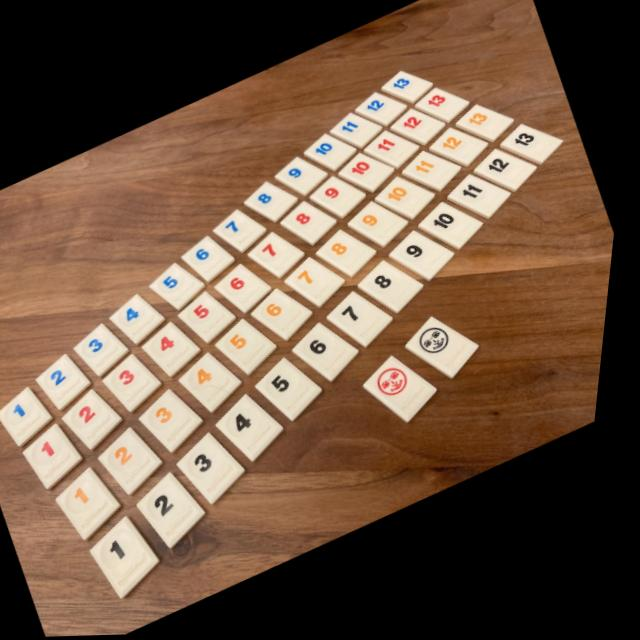black_1: (102, 517, 172, 599)
black_10: (424, 205, 489, 253)
black_11: (454, 177, 515, 222)
black_12: (478, 152, 541, 195)
black_13: (505, 127, 566, 168)
black_2: (149, 473, 217, 550)
black_3: (188, 434, 256, 506)
black_4: (226, 396, 293, 464)
black_5: (265, 359, 330, 423)
black_6: (301, 324, 366, 384)
black_7: (334, 294, 400, 349)
black_8: (366, 263, 430, 316)
black_9: (396, 233, 460, 283)
blue_1: (7, 388, 63, 447)
blue_10: (308, 136, 361, 174)
blue_11: (333, 115, 386, 151)
blue_12: (358, 94, 410, 129)
blue_13: (385, 73, 436, 106)
blue_2: (45, 354, 99, 411)
blue_3: (82, 325, 137, 377)
blue_4: (118, 295, 172, 345)
blue_5: (157, 264, 211, 312)
blue_6: (188, 237, 241, 284)
blue_7: (219, 211, 272, 254)
blue_8: (249, 183, 303, 224)
blue_9: (279, 159, 332, 198)
joker: (372, 358, 446, 425), (415, 319, 487, 381)
orange_1: (67, 468, 132, 541)
orange_10: (380, 180, 440, 222)
orange_11: (407, 154, 465, 194)
orange_12: (433, 131, 492, 170)
orange_13: (460, 107, 517, 145)
orange_2: (110, 428, 173, 496)
orange_3: (149, 390, 213, 454)
orange_4: (188, 354, 250, 414)
orange_5: (224, 320, 284, 377)
orange_6: (258, 290, 320, 343)
orange_7: (292, 259, 351, 310)
orange_8: (323, 232, 383, 279)
orange_9: (353, 204, 413, 250)
red_1: (33, 424, 93, 490)
red_10: (343, 156, 398, 195)
red_11: (369, 133, 423, 172)
red_12: (394, 111, 449, 148)
red_13: (418, 90, 472, 126)
red_2: (73, 391, 132, 451)
red_3: (112, 355, 170, 413)
red_4: (150, 323, 209, 378)
red_5: (185, 293, 243, 345)
red_6: (222, 265, 279, 315)
red_7: (255, 234, 311, 281)
red_8: (286, 203, 342, 247)
red_9: (315, 178, 371, 221)
